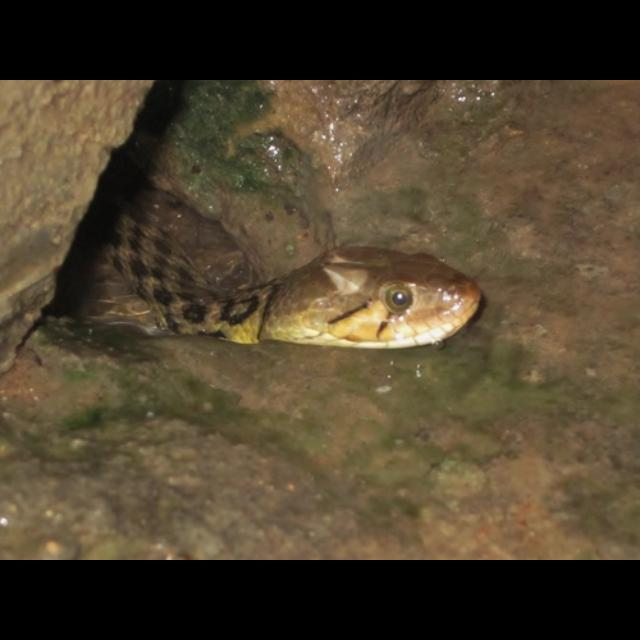snake: (73, 195, 494, 353)
